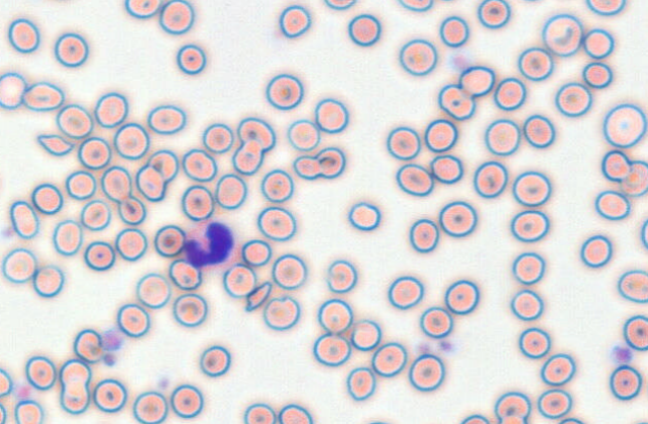GRAN: (180, 218, 239, 270)
PLT: (609, 343, 636, 365), (100, 329, 121, 352), (446, 52, 471, 71), (437, 338, 460, 357), (415, 336, 432, 355), (14, 384, 32, 400), (103, 353, 116, 367)
RBC: (602, 102, 647, 148), (542, 13, 583, 56), (399, 38, 437, 76), (438, 200, 477, 237), (437, 83, 475, 120), (408, 353, 445, 391), (265, 73, 303, 110), (236, 116, 275, 152), (512, 170, 551, 206), (256, 206, 296, 241), (113, 122, 150, 159), (262, 294, 300, 330), (55, 103, 93, 139), (472, 160, 508, 198), (554, 81, 592, 117), (484, 118, 520, 155), (312, 332, 351, 366), (317, 298, 353, 334), (371, 341, 407, 377), (271, 253, 307, 289), (135, 272, 171, 308), (93, 91, 128, 128), (510, 209, 549, 242), (1, 247, 36, 283), (22, 81, 64, 111), (444, 279, 479, 315), (517, 46, 553, 81), (180, 184, 214, 221), (395, 163, 433, 196), (92, 378, 127, 413), (53, 32, 88, 67), (608, 364, 642, 400), (387, 275, 423, 309), (314, 97, 348, 133), (493, 391, 531, 423), (147, 103, 186, 134), (222, 263, 256, 298), (169, 383, 203, 418), (159, 0, 194, 34), (172, 293, 207, 327), (540, 352, 575, 386), (386, 125, 420, 160), (132, 390, 168, 423), (7, 17, 40, 53), (181, 148, 217, 181), (214, 173, 247, 209), (458, 65, 495, 97), (100, 165, 132, 202), (9, 200, 39, 239), (116, 303, 150, 337), (260, 168, 294, 202), (511, 251, 545, 285), (424, 118, 458, 152), (522, 113, 555, 148), (231, 139, 263, 175), (419, 305, 453, 338), (77, 136, 111, 169), (114, 227, 147, 261), (509, 288, 543, 321), (278, 4, 311, 38), (347, 13, 381, 46), (493, 76, 526, 110), (24, 355, 56, 390), (325, 258, 357, 293), (51, 219, 82, 255), (594, 189, 630, 220), (135, 164, 165, 201), (287, 118, 320, 151), (168, 258, 202, 290), (580, 234, 612, 268), (537, 388, 572, 419), (408, 218, 439, 253), (32, 264, 64, 297), (199, 344, 231, 377), (153, 224, 185, 257), (518, 327, 551, 359), (30, 182, 63, 214), (429, 153, 463, 184), (346, 366, 376, 401), (582, 27, 614, 59), (59, 381, 90, 414), (147, 149, 178, 182), (350, 318, 381, 351), (600, 149, 631, 182), (617, 269, 647, 303), (347, 201, 381, 231), (619, 160, 647, 196), (64, 169, 96, 200), (83, 240, 115, 271), (202, 122, 234, 153), (175, 43, 206, 75), (0, 71, 26, 109), (80, 199, 111, 230), (315, 146, 345, 178), (439, 15, 469, 47), (477, 0, 510, 28), (622, 314, 647, 350), (117, 195, 146, 225), (241, 238, 271, 266), (582, 61, 613, 88), (292, 154, 321, 180), (277, 403, 313, 423), (14, 399, 43, 423), (243, 402, 276, 423), (124, 0, 161, 18), (585, 0, 626, 15), (397, 0, 433, 12), (0, 367, 13, 397), (323, 0, 356, 10), (459, 413, 490, 423), (640, 216, 648, 250), (499, 415, 525, 423), (557, 417, 585, 423), (362, 419, 391, 424), (0, 402, 6, 423)
Schistocyte: (72, 328, 103, 363), (38, 132, 75, 157), (244, 281, 273, 311)
